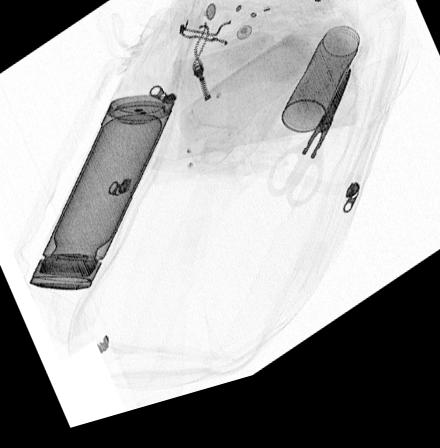Scissors: (262, 88, 352, 226)
